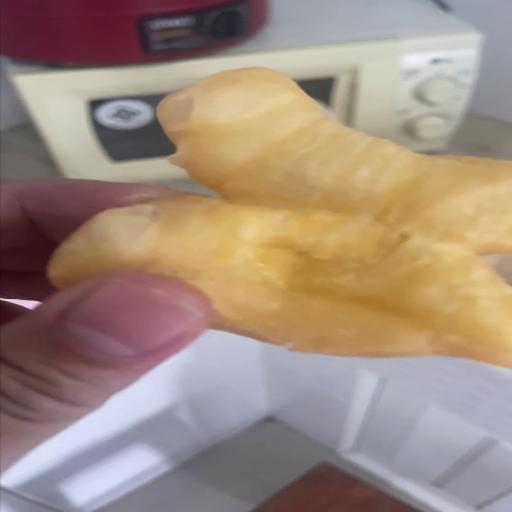street_golden_defect: (47, 68, 512, 368), (48, 68, 512, 368)
